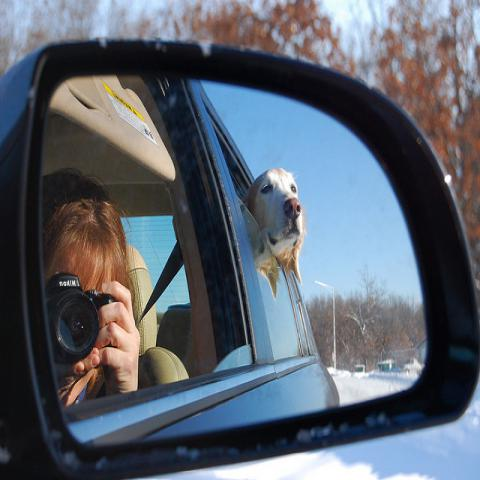car: (29, 72, 341, 447)
